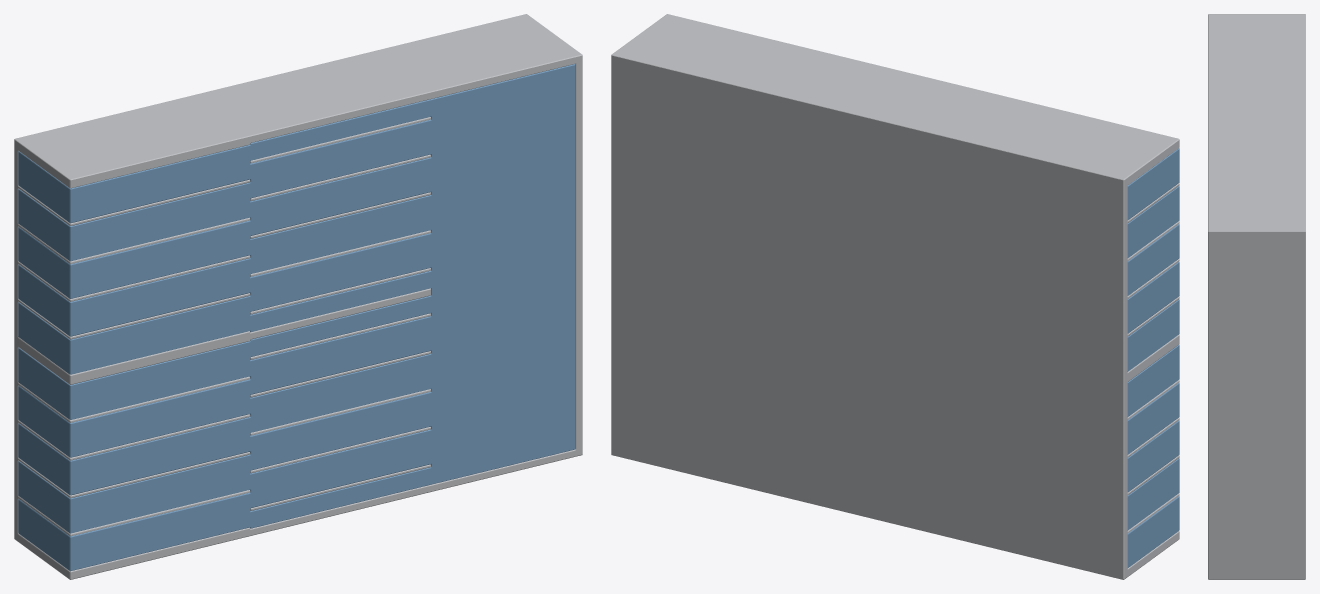
Rendered from two-pass-coupon.glb.
3 renders of one model, left to right at view 1: azimuth 30°, elevation 25°; view 2: azimuth 150°, elevation 25°; view 3: azimuth 270°, elevation 25°, orthographic. The views are drawn at different scales.
Visible parts, largest first — view 1: two-pass-charge, two-pass-metal-open-view; view 2: two-pass-metal-open-view, two-pass-charge; view 3: two-pass-metal-open-view.
Boxes of the visible parts, left/top/right/bottom form: two-pass-charge: left=18, top=64, right=575, bottom=571; two-pass-metal-open-view: left=14, top=14, right=582, bottom=579; two-pass-metal-open-view: left=611, top=14, right=1179, bottom=579; two-pass-charge: left=1127, top=148, right=1179, bottom=567; two-pass-metal-open-view: left=1208, top=14, right=1305, bottom=579.
Bounding box in the file's own units: 0.0284 × 0.0212 × 0.0054.
